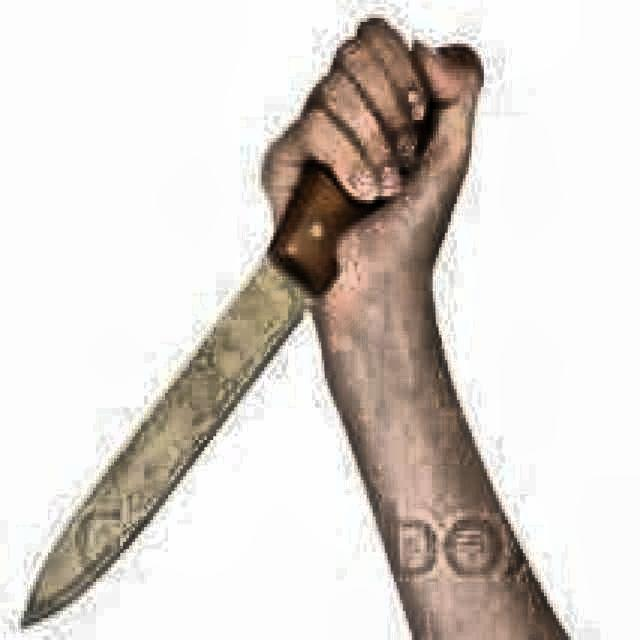knife: (25, 45, 482, 629)
